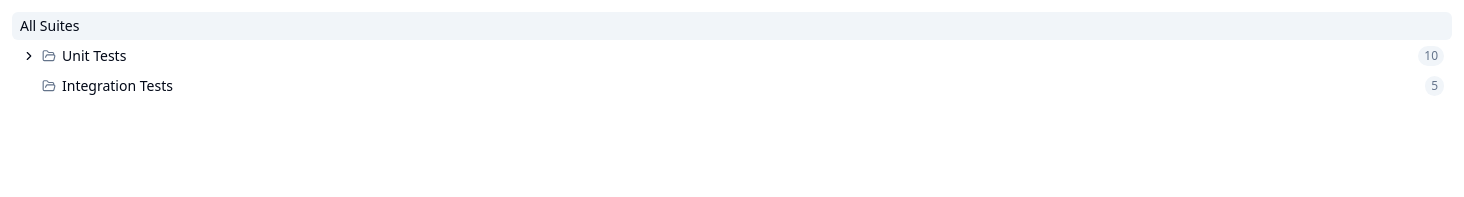
SuiteTree › expands deeply nested children
The width and height of the screenshot is (1464, 197).
What coordinates should you click on to do the following:
click the button named "Expand "
I would click on:
 (29, 56)
Its box is [20,47,38,65].
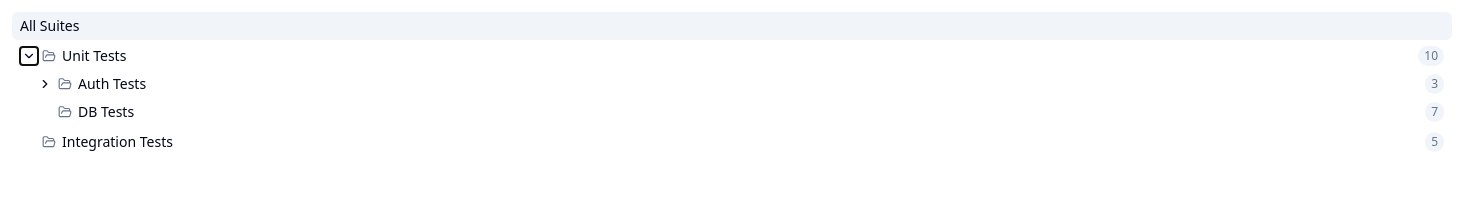
What coordinates should you click on to do the following:
click the button named "Expand "
I would click on:
 (45, 84)
Its box is [36,75,54,93].
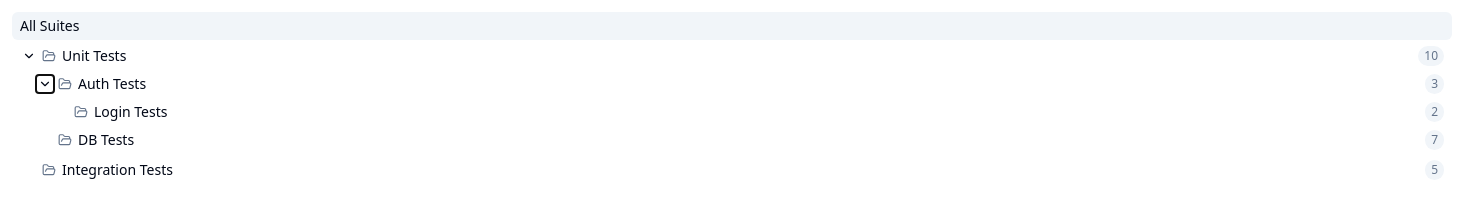
Result: the text "Login Tests" is shown at [94,102,168,122]
